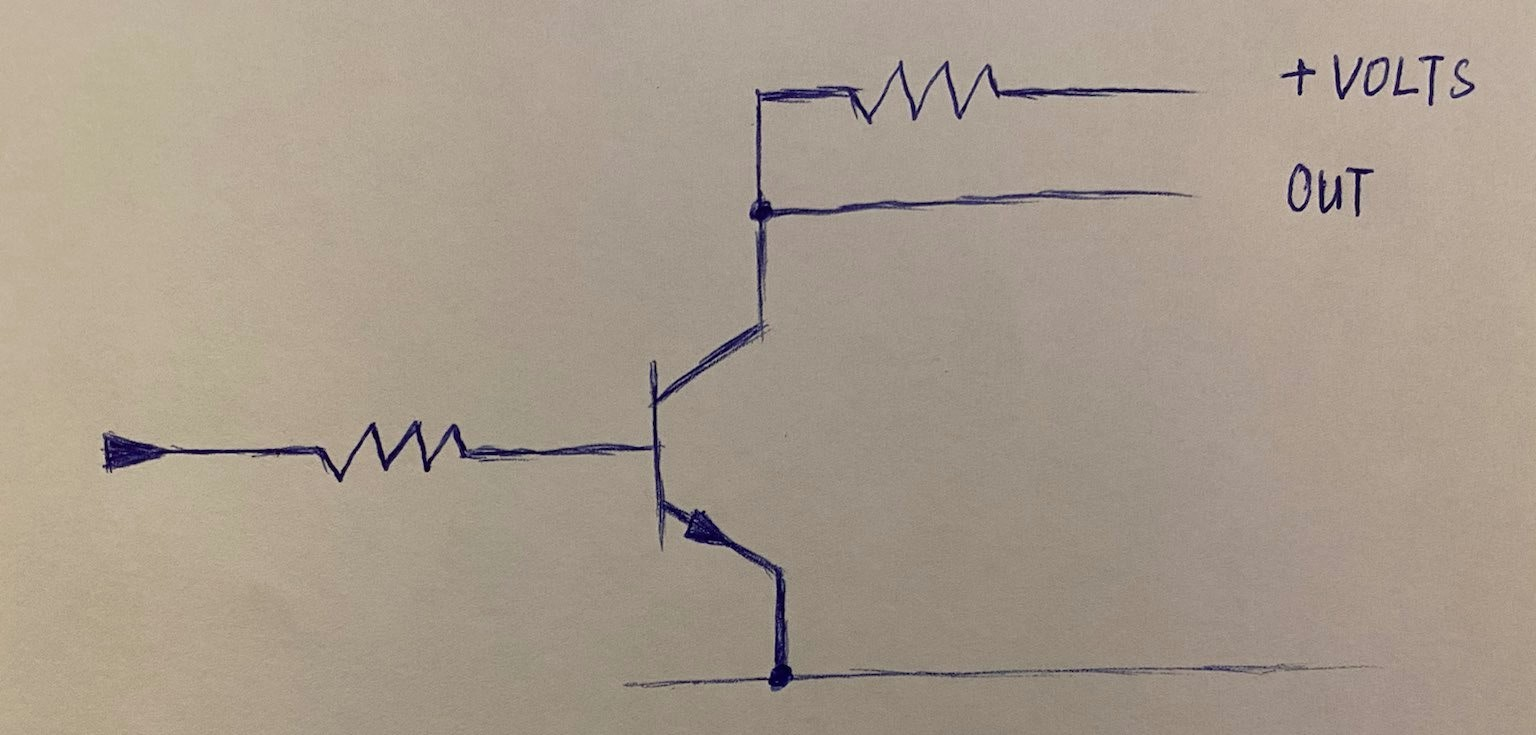junction: (754, 648, 816, 707), (737, 183, 792, 238), (749, 82, 768, 105)
resistor: (302, 401, 484, 496), (832, 51, 1019, 138)
terminal: (86, 422, 177, 480), (1336, 657, 1392, 679), (1179, 82, 1216, 104), (1169, 184, 1206, 205), (616, 675, 637, 696)
text: (1328, 45, 1481, 107), (1283, 154, 1377, 223), (1272, 51, 1319, 107)
transistor: (631, 309, 824, 590)
